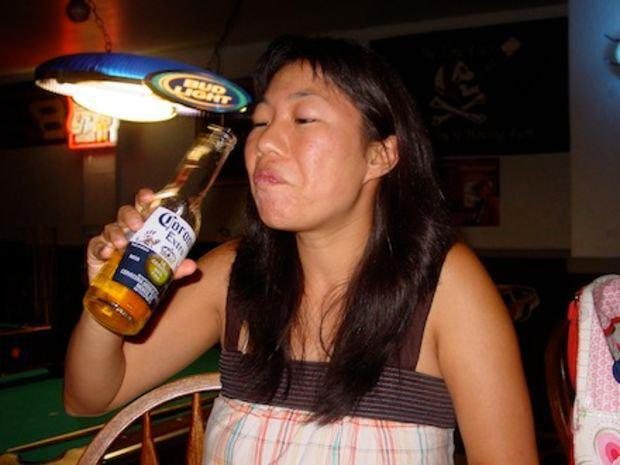Drunk: (240, 83, 359, 217)
